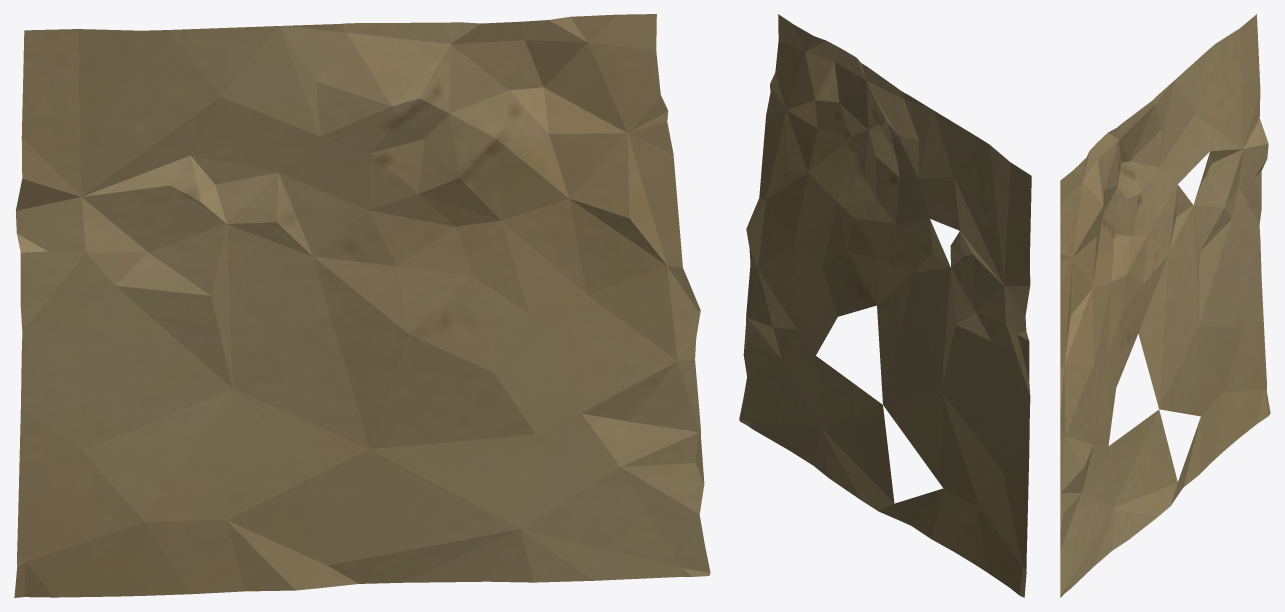
3 renders of one model, left to right at view 1: azimuth 30°, elevation 25°; view 2: azimuth 150°, elevation 25°; view 3: azimuth 270°, elevation 25°, orthographic. The views are drawn at different scales.
Size of the model in its own units: 0.8306 by 0.8374 by 0.3994.
3 materials, 3 textured.
